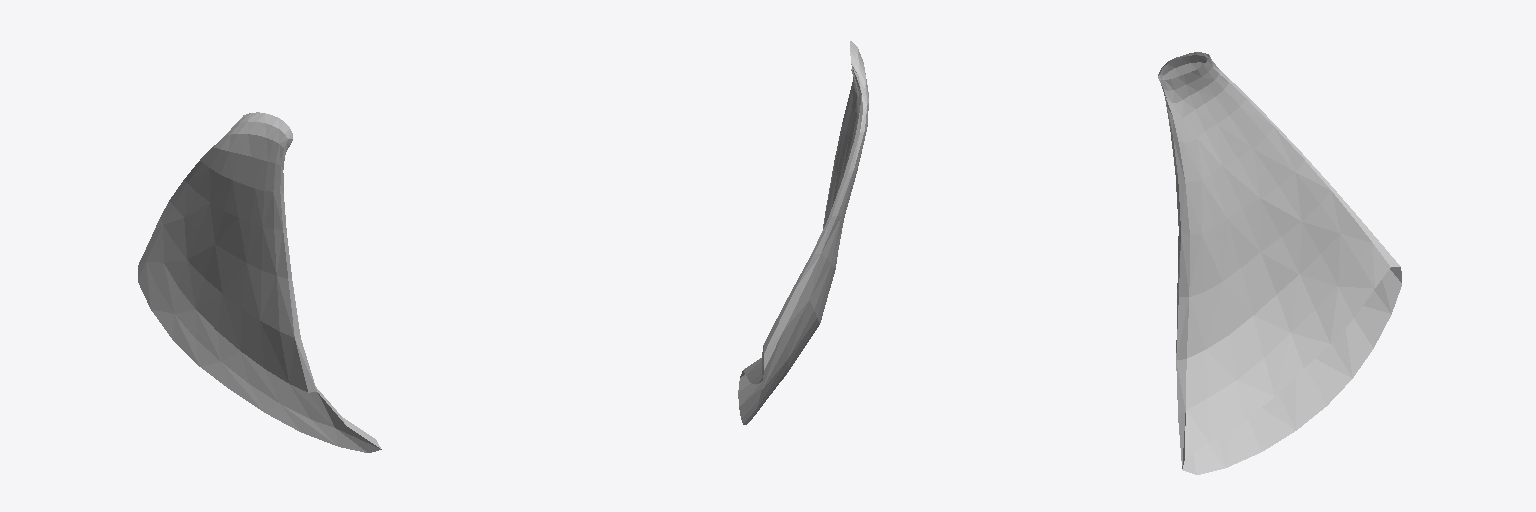
Rendered from depressor_anguli_oris_right.obj.
3 views of the same model, side by side, from view 1: azimuth 30°, elevation 25°; view 2: azimuth 150°, elevation 25°; view 3: azimuth 270°, elevation 25° (orthographic).
Visible parts, largest first — view 1: Depressor_Anguli_Oris_Muscle_Right; view 2: Depressor_Anguli_Oris_Muscle_Right; view 3: Depressor_Anguli_Oris_Muscle_Right.
Part boxes in pixels (left/top/right/bottom): Depressor_Anguli_Oris_Muscle_Right: left=138, top=112, right=381, bottom=452; Depressor_Anguli_Oris_Muscle_Right: left=738, top=41, right=868, bottom=424; Depressor_Anguli_Oris_Muscle_Right: left=1158, top=52, right=1401, bottom=474.
Size of the model in its own units: 0.204 by 0.4682 by 0.2811.